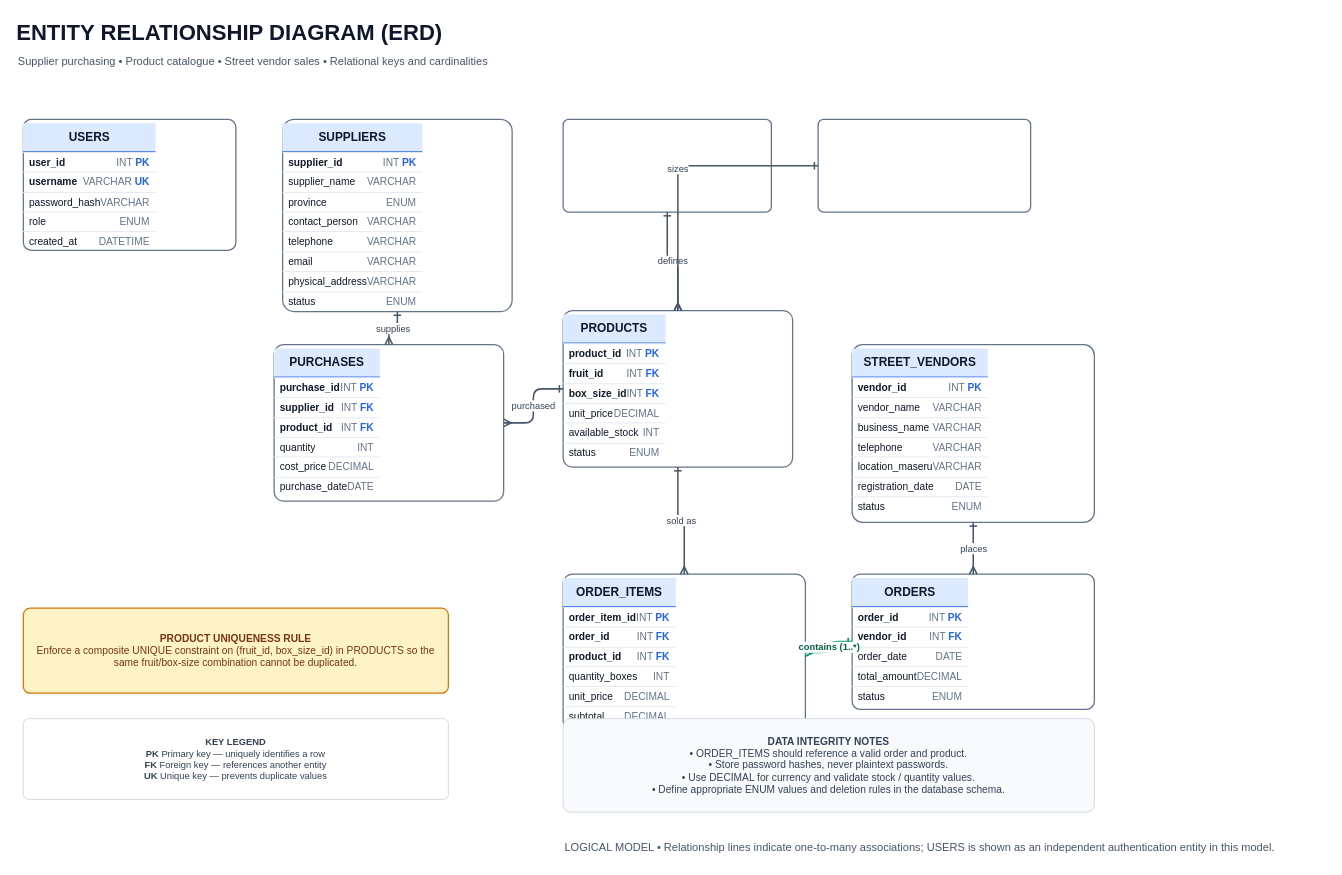
This 1342x875 diagram has some shape labels left out. Here are the shapes that lost their labels. From the top down, the box of each, then its label:
(562, 118, 772, 212): FRUITS fruit_id INT PK fruit_name VARCHAR UK status ENUM
(817, 118, 1031, 212): BOX_SIZES box_size_id INT PK size_name ENUM UK description VARCHAR
